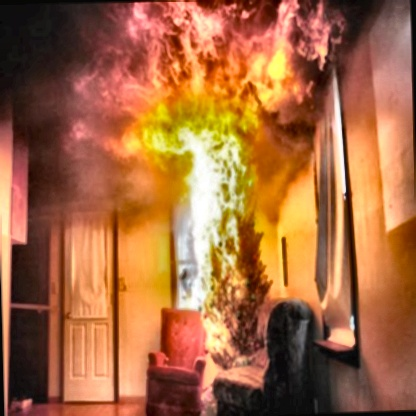fire: (52, 0, 344, 364)
